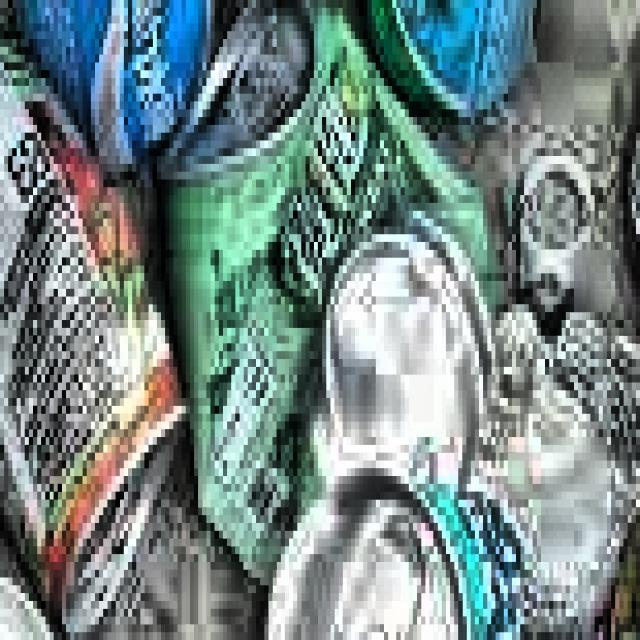metal: (153, 0, 495, 570), (0, 0, 202, 640), (442, 140, 640, 640), (227, 445, 520, 640), (0, 0, 244, 203), (330, 0, 602, 148)
